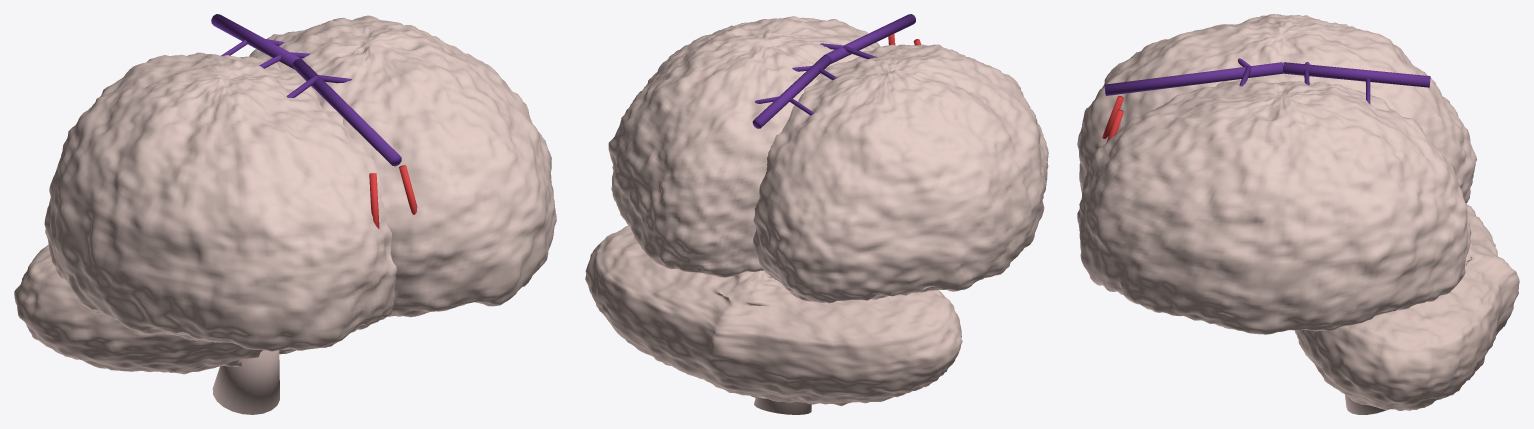
File: HumanBrain_3D.glb
The picture shows the model from 3 angles, left to right: view 1: azimuth 30°, elevation 25°; view 2: azimuth 150°, elevation 25°; view 3: azimuth 270°, elevation 25°; orthographic projection. The views are drawn at different scales.
Parts seen in each view (by area): view 1: Hemisphere_L, Hemisphere_R, Cerebellum, Medulla, SSS_1, SSS_2; view 2: Hemisphere_L, Cerebellum, Hemisphere_R, SSS_2, SSS_1, Medulla; view 3: Hemisphere_R, Hemisphere_L, Cerebellum, SSS_1, SSS_2.
Boxes of the visible parts, x1,y1,x2,y2 form: Hemisphere_L: [44, 52, 396, 351]; Hemisphere_R: [249, 15, 556, 317]; Cerebellum: [14, 245, 295, 374]; Medulla: [212, 350, 279, 414]; SSS_1: [292, 58, 401, 166]; SSS_2: [211, 14, 300, 69]; Hemisphere_L: [753, 44, 1048, 303]; Cerebellum: [585, 225, 962, 406]; Hemisphere_R: [608, 16, 880, 277]; SSS_2: [752, 55, 831, 128]; SSS_1: [825, 14, 915, 63]; Medulla: [754, 398, 811, 414]; Hemisphere_R: [1077, 79, 1471, 334]; Hemisphere_L: [1077, 14, 1476, 203]; Cerebellum: [1294, 203, 1519, 410]; SSS_1: [1104, 62, 1283, 95]; SSS_2: [1283, 62, 1430, 87].
Bounding box in the file's own units: 2.99 × 2.46 × 2.86.
